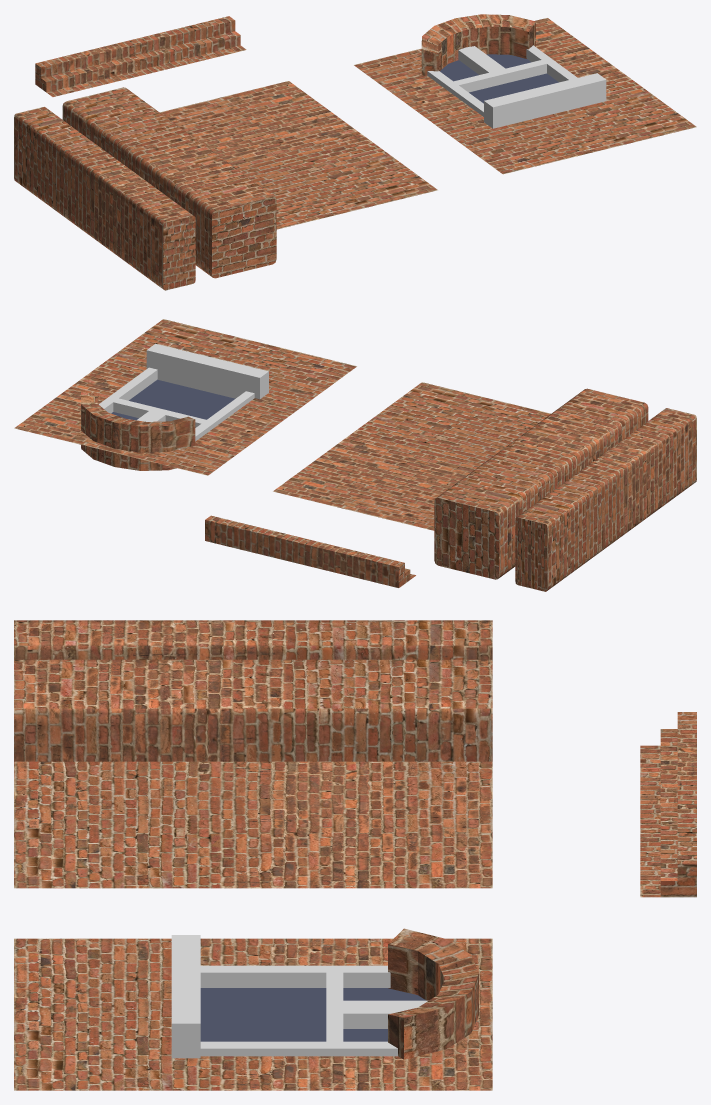
The model's file is Familok segments.fbx.
3 views of the same model, one above another, from view 1: azimuth 30°, elevation 25°; view 2: azimuth 150°, elevation 25°; view 3: azimuth 270°, elevation 25° (orthographic). The views are drawn at different scales.
Visible parts, largest first — view 1: Window Section, Wall, Pillar, Pillar Small, Detail; view 2: Window Section, Wall, Pillar, Pillar Small, Detail; view 3: Window Section, Wall, Pillar, Pillar Small, Detail.
Boxes of the visible parts, box(x1,y1,x2,y2) form: Window Section: box(354, 14, 696, 174); Wall: box(160, 81, 437, 229); Pillar: box(62, 87, 276, 278); Pillar Small: box(14, 106, 195, 290); Detail: box(35, 16, 246, 96); Window Section: box(14, 319, 356, 475); Wall: box(273, 382, 550, 530); Pillar: box(434, 388, 648, 579); Pillar Small: box(515, 408, 696, 591); Detail: box(205, 515, 415, 587); Window Section: box(14, 928, 492, 1090); Wall: box(14, 761, 492, 888); Pillar: box(14, 659, 492, 761); Pillar Small: box(14, 620, 492, 659); Detail: box(640, 712, 696, 897).
Size of the model in its own units: 825 by 100 by 571.
